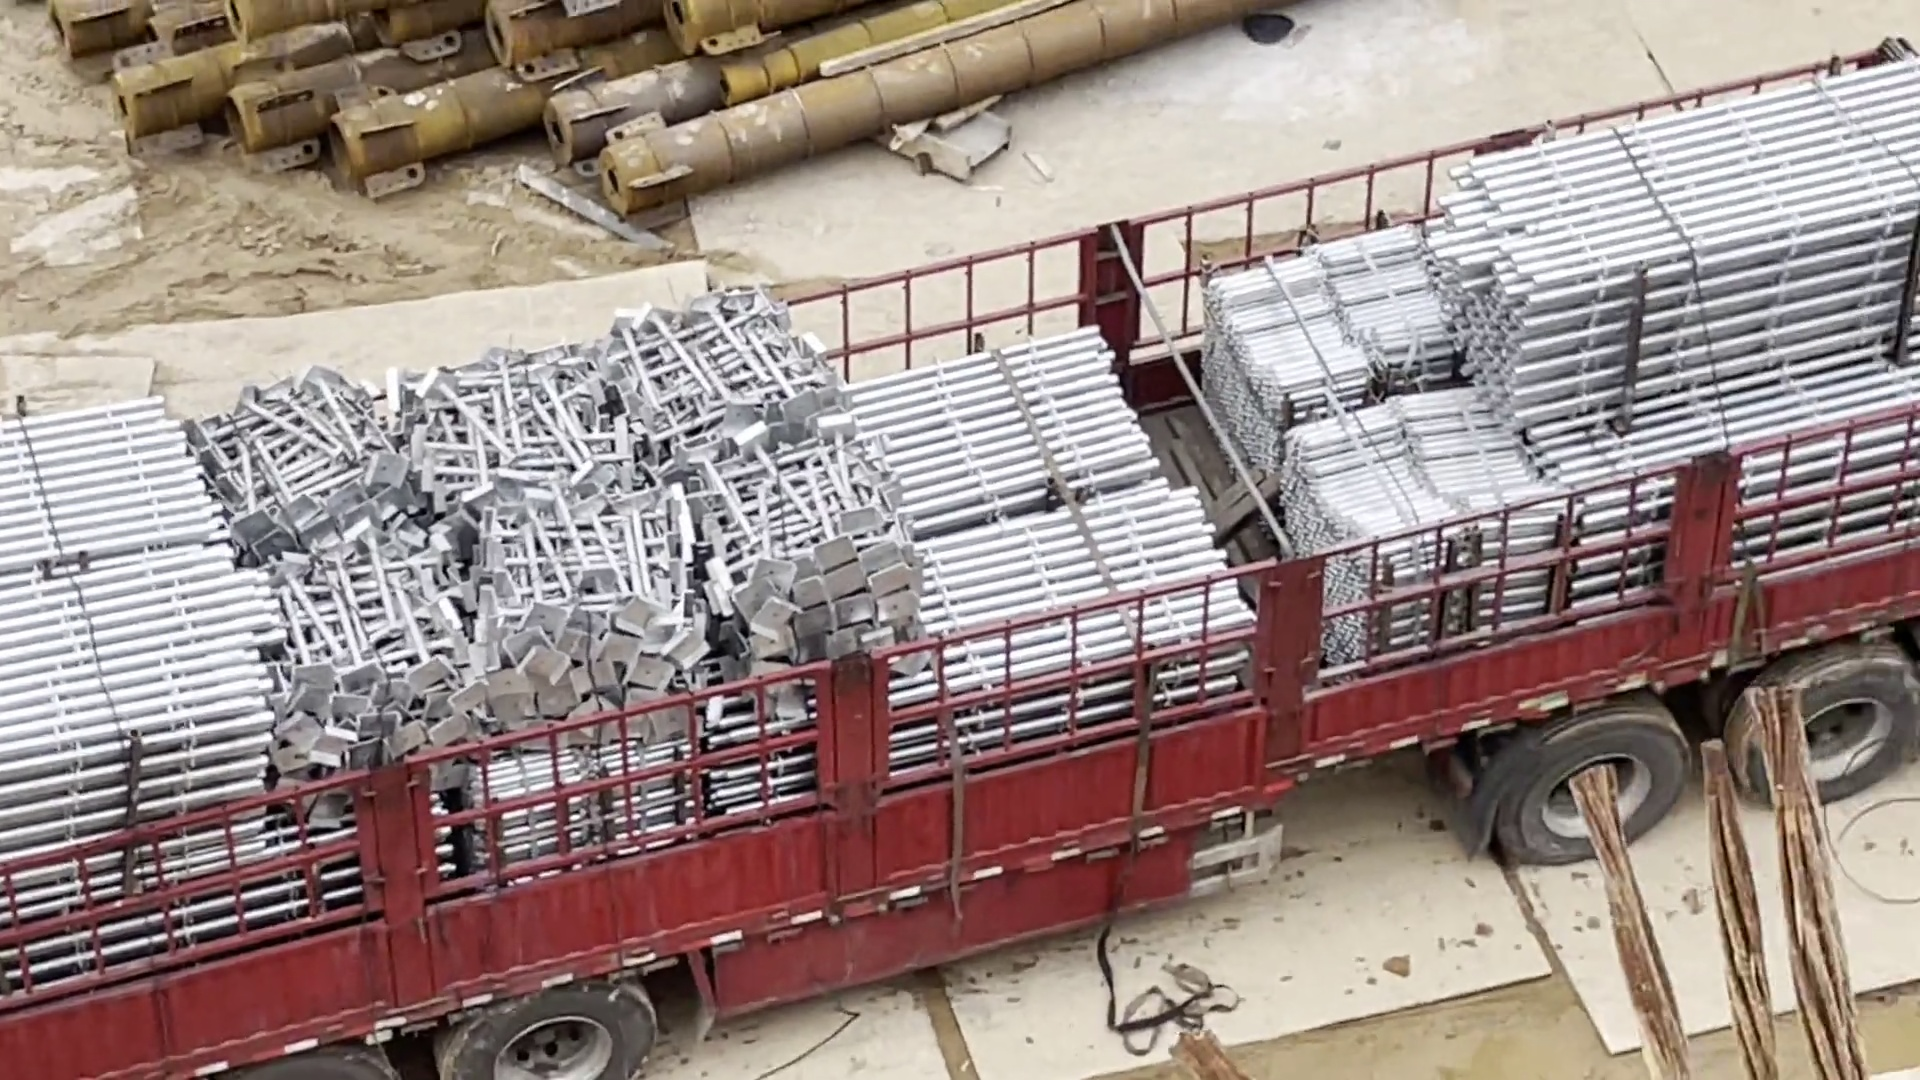scaffold: (1441, 57, 1920, 600), (847, 326, 1240, 775), (1, 396, 268, 969), (1199, 219, 1524, 657)
